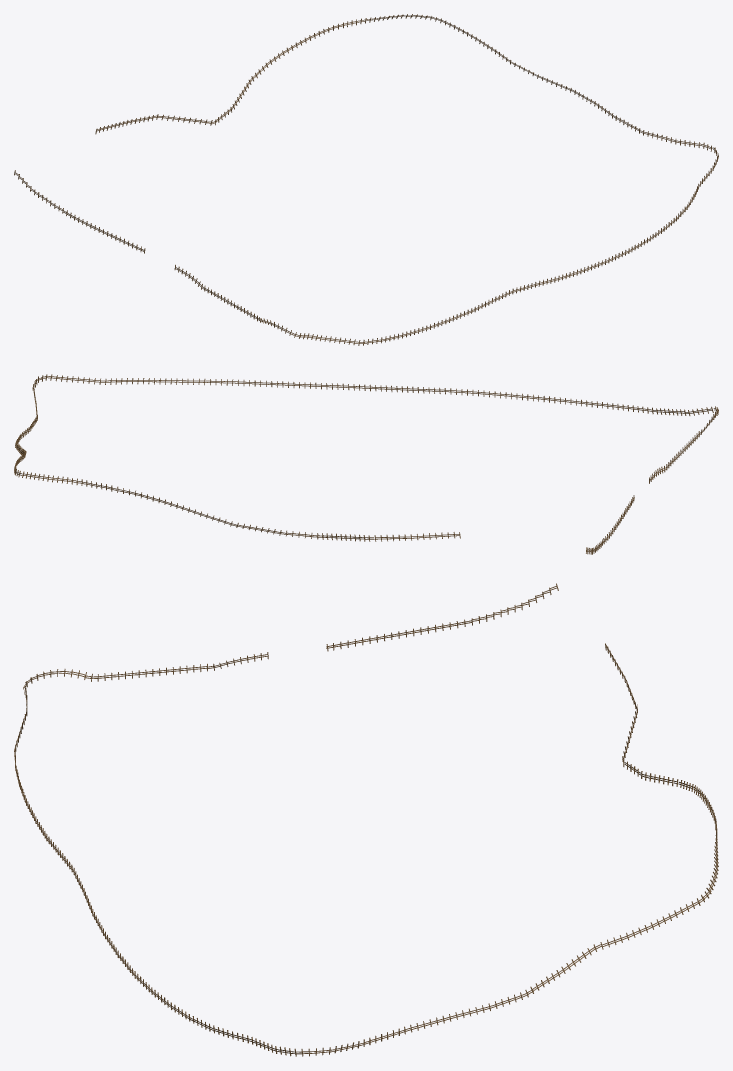
The model's file is Fence.glb.
The picture shows the model from 3 angles, top to bottom: view 1: azimuth 30°, elevation 25°; view 2: azimuth 150°, elevation 25°; view 3: azimuth 270°, elevation 25°; orthographic projection. The views are drawn at different scales.
Visible parts, largest first — view 1: Fence; view 2: Fence; view 3: Fence.
Boxes of the visible parts, bbox=[...] form: Fence: bbox=[14, 14, 718, 345]; Fence: bbox=[14, 374, 718, 554]; Fence: bbox=[14, 583, 718, 1056].
Bounding box in the file's own units: 172 × 23.45 × 131.
Materials: 1 (1 with a texture image).
